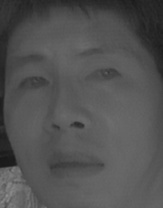eye: (82, 63, 122, 88), (16, 72, 50, 95)
mouth: (45, 146, 106, 184)
